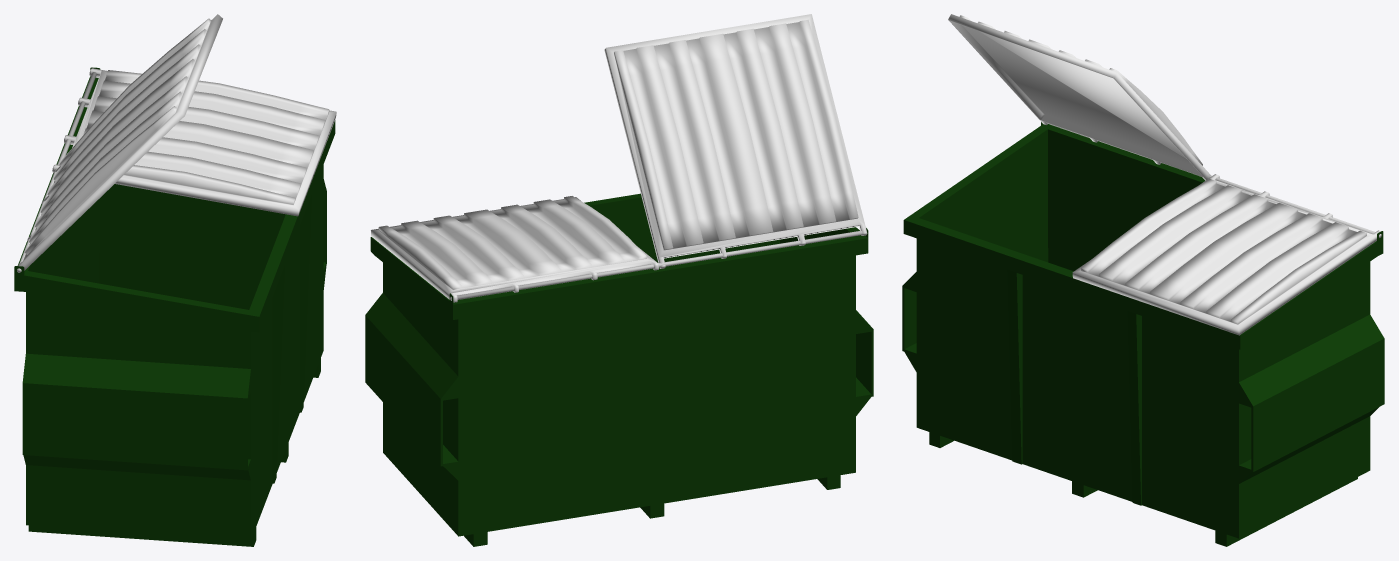
The model's file is garbage_bin.fbx.
3 views of the same model, side by side, from view 1: azimuth 30°, elevation 25°; view 2: azimuth 150°, elevation 25°; view 3: azimuth 270°, elevation 25° (orthographic). The views are drawn at different scales.
Visible parts, largest first — view 1: Trash.Container, Trash.Container.002, Trash.Container.001, Trash.Container.003; view 2: Trash.Container, Trash.Container.001, Trash.Container.002, Trash.Container.003; view 3: Trash.Container, Trash.Container.002, Trash.Container.001, Trash.Container.003.
Part boxes in pixels (x1,y1,x2,y2): Trash.Container: (14, 67, 335, 546); Trash.Container.002: (52, 68, 336, 216); Trash.Container.001: (18, 14, 222, 270); Trash.Container.003: (17, 72, 96, 272); Trash.Container: (365, 193, 873, 546); Trash.Container.001: (604, 14, 867, 268); Trash.Container.002: (371, 196, 658, 302); Trash.Container.003: (450, 230, 862, 300); Trash.Container: (902, 122, 1384, 546); Trash.Container.002: (1072, 174, 1380, 335); Trash.Container.001: (948, 14, 1210, 180); Trash.Container.003: (1046, 122, 1381, 237).
Bounding box in the file's own units: 195 × 193 × 209.
